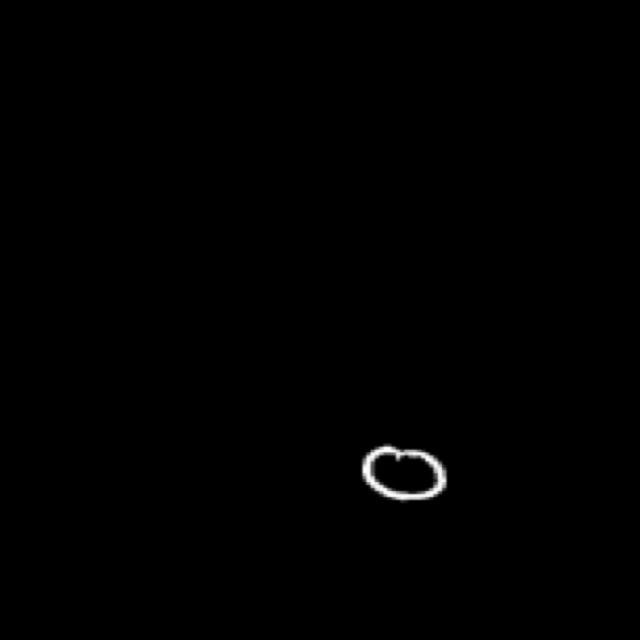zero -0-: (349, 435, 456, 526)
